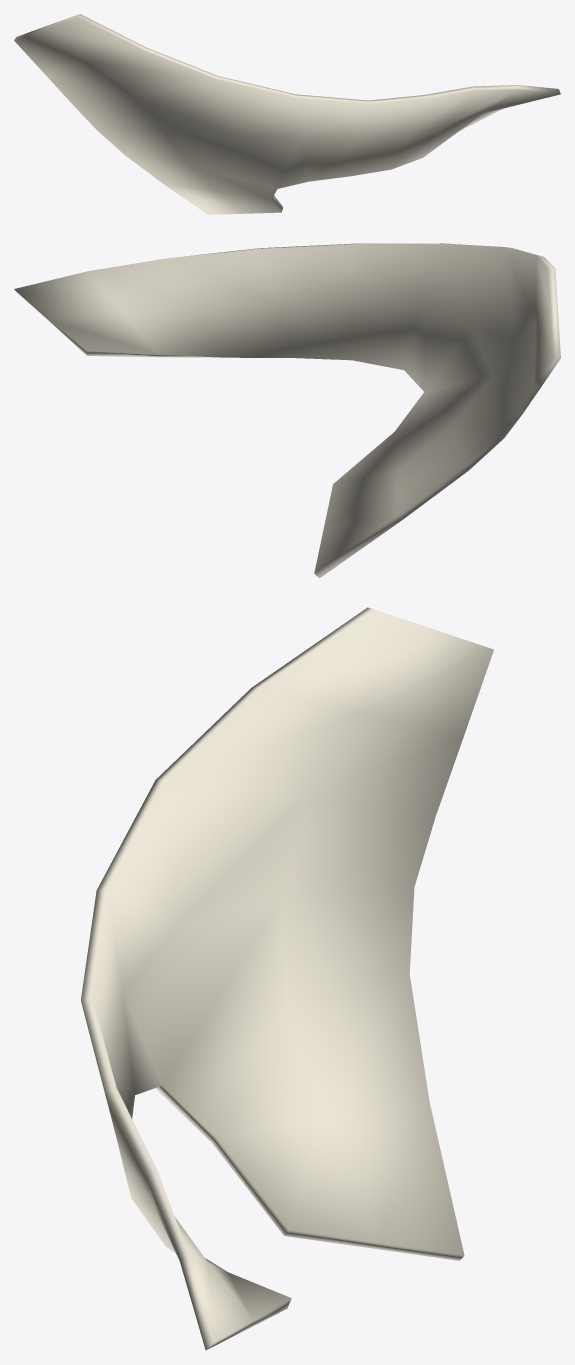
The picture shows the model from 3 angles, top to bottom: view 1: azimuth 30°, elevation 25°; view 2: azimuth 150°, elevation 25°; view 3: azimuth 270°, elevation 25°; orthographic projection. The views are drawn at different scales.
Parts seen in each view (by area): view 1: ZA_b9586019831d609a; view 2: ZA_b9586019831d609a; view 3: ZA_b9586019831d609a.
Boxes of the visible parts, x1,y1,x2,y2 form: ZA_b9586019831d609a: [14, 14, 560, 214]; ZA_b9586019831d609a: [14, 243, 560, 578]; ZA_b9586019831d609a: [81, 607, 493, 1350].
Bounding box in the file's own units: 0.0465 × 0.0236 × 0.0175.
